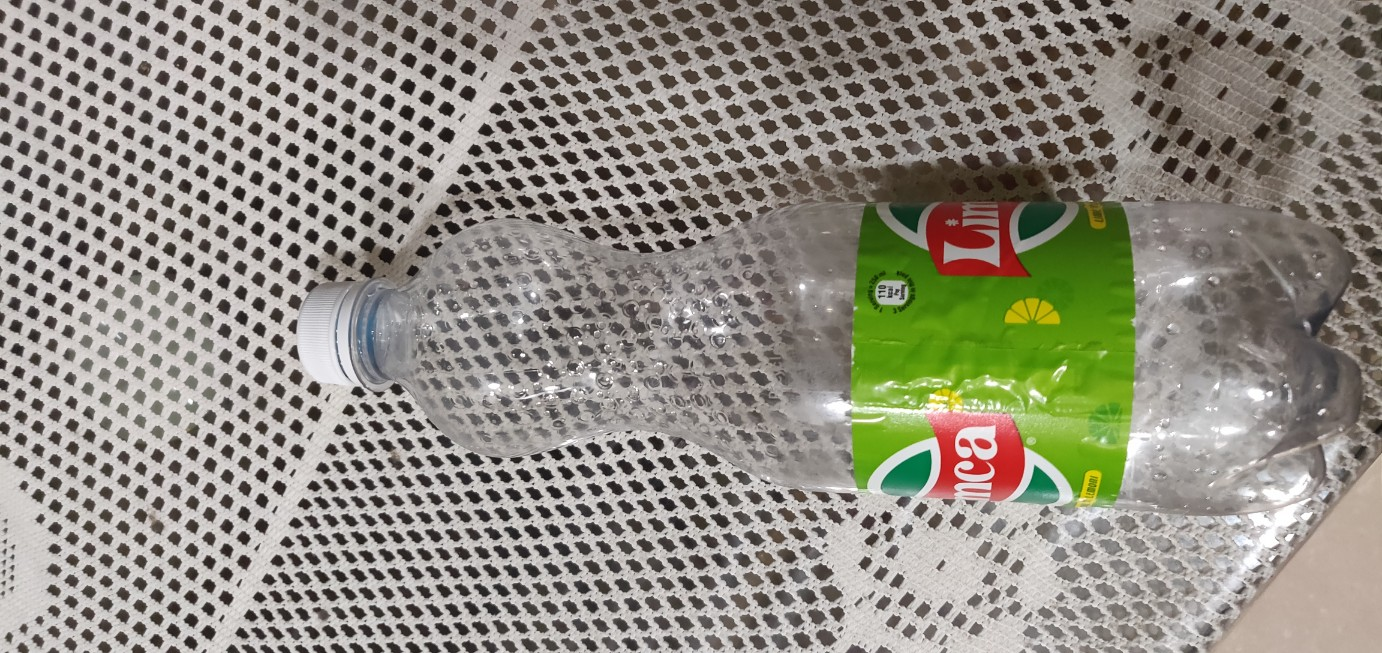Electronics: (263, 163, 1377, 535)
